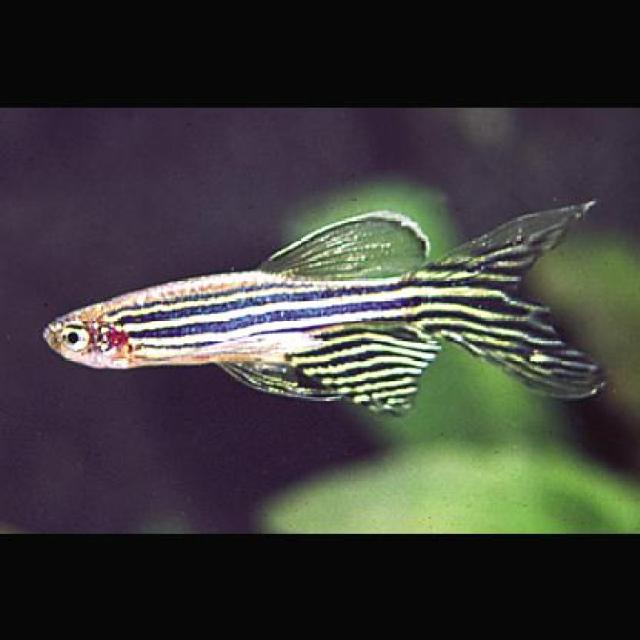ZebraFish: (41, 208, 432, 408)
